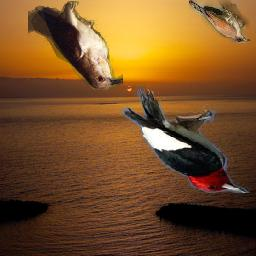Cuckoo: (29, 2, 124, 91), (190, 1, 251, 44)
Woodpecker: (120, 85, 251, 193)
